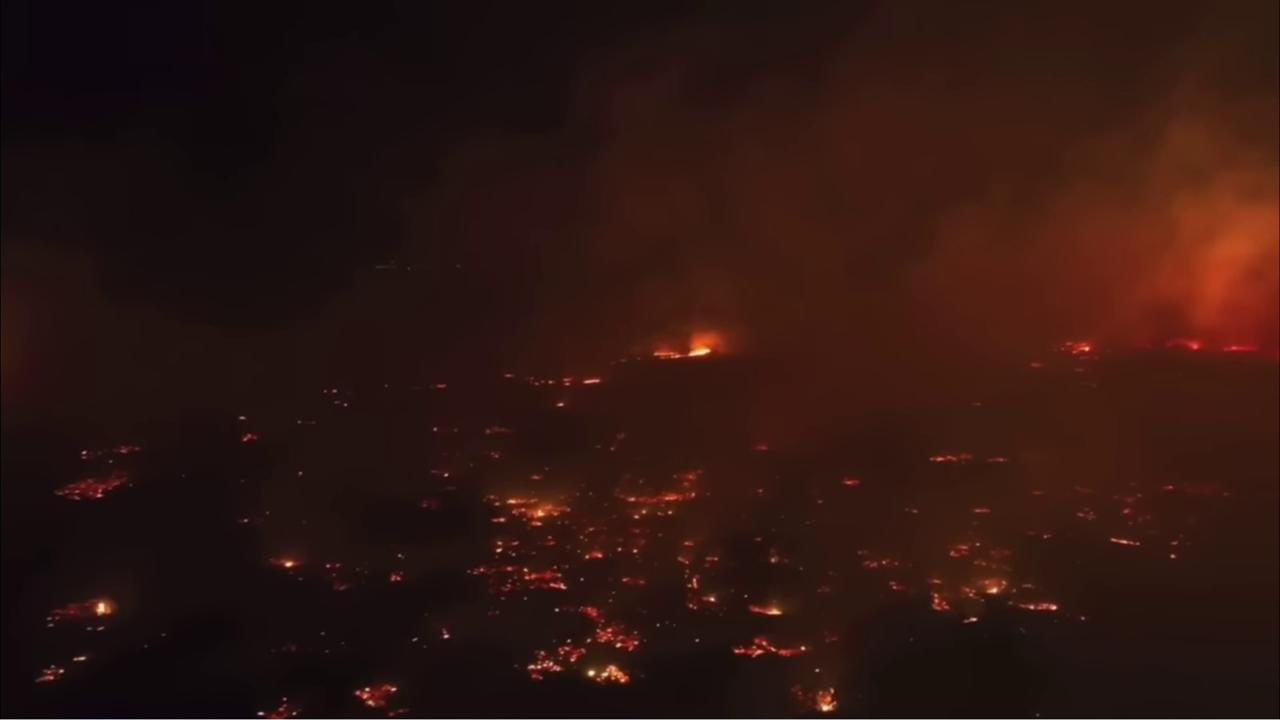fire: (609, 467, 710, 518), (464, 561, 571, 599), (576, 602, 646, 654), (516, 637, 587, 687), (486, 492, 574, 530), (672, 554, 724, 614), (50, 469, 133, 501), (42, 596, 117, 629), (727, 637, 813, 662), (785, 678, 840, 713), (955, 572, 1008, 603), (349, 679, 399, 709), (78, 441, 146, 459), (650, 343, 714, 362), (585, 662, 632, 687), (254, 695, 305, 718), (1055, 336, 1096, 356), (747, 600, 786, 619), (924, 452, 973, 467), (31, 662, 64, 684), (1016, 600, 1061, 614), (945, 540, 972, 562), (270, 554, 307, 570), (929, 591, 951, 615), (1104, 536, 1143, 548), (861, 555, 888, 571), (580, 547, 605, 564), (1221, 342, 1258, 353), (621, 573, 647, 588), (884, 577, 906, 593), (702, 554, 724, 569), (970, 503, 995, 515), (679, 538, 703, 550), (236, 433, 261, 444), (923, 574, 943, 587), (985, 454, 1010, 464), (840, 475, 861, 486), (440, 625, 454, 641), (1184, 339, 1201, 352), (961, 613, 979, 625), (388, 570, 405, 581), (490, 513, 506, 524), (582, 377, 603, 385), (1117, 505, 1132, 516), (559, 378, 575, 388), (529, 472, 546, 481), (554, 400, 569, 410), (755, 443, 770, 453), (73, 653, 87, 663), (434, 381, 449, 390), (1166, 481, 1177, 491), (1166, 554, 1178, 563), (440, 472, 450, 478), (1080, 614, 1087, 621), (432, 426, 439, 433)
smoke: (0, 0, 1279, 720)
